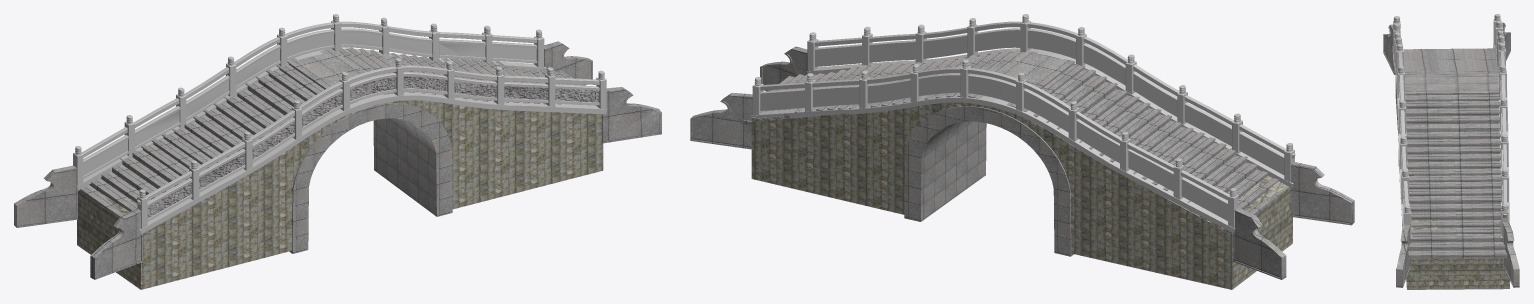
File: Bridge-1.obj
3 views of the same model, side by side, from view 1: azimuth 30°, elevation 25°; view 2: azimuth 150°, elevation 25°; view 3: azimuth 270°, elevation 25° (orthographic). The views are drawn at different scales.
Parts seen in each view (by area): view 1: Obj3d66_688138_241_499_网格.636, Obj3d66_688138_239_270_网格.634, Obj3d66_688138_240_858_网格.635, Obj3d66_688138_238_77_网格.633, Obj3d66_688138_242_375_网格.637, Obj3d66_688138_220_511_网格.615, Obj3d66_688138_230_505_网格.625, Obj3d66_688138_224_128_网格.619, Obj3d66_688138_234_986_网格.629, Obj3d66_688138_221_254_网格.616, Obj3d66_688138_219_605_网格.614, Obj3d66_688138_237_465_网格.632 (+13 smaller); view 2: Obj3d66_688138_241_499_网格.636, Obj3d66_688138_220_511_网格.615, Obj3d66_688138_239_270_网格.634, Obj3d66_688138_238_77_网格.633, Obj3d66_688138_230_505_网格.625, Obj3d66_688138_242_375_网格.637, Obj3d66_688138_240_858_网格.635; view 3: Obj3d66_688138_239_270_网格.634, Obj3d66_688138_241_499_网格.636, Obj3d66_688138_240_858_网格.635, Obj3d66_688138_242_375_网格.637, Obj3d66_688138_230_505_网格.625, Obj3d66_688138_220_511_网格.615.
Part boxes in pixels (x1,y1,x2,y2): Obj3d66_688138_241_499_网格.636: (77,100,603,289); Obj3d66_688138_239_270_网格.634: (78,47,595,217); Obj3d66_688138_240_858_网格.635: (137,58,607,234); Obj3d66_688138_238_77_网格.633: (289,103,452,253); Obj3d66_688138_242_375_网格.637: (14,41,661,279); Obj3d66_688138_220_511_网格.615: (83,28,599,221); Obj3d66_688138_230_505_网格.625: (73,14,546,190); Obj3d66_688138_224_128_网格.619: (287,33,333,57); Obj3d66_688138_234_986_网格.629: (350,77,395,100); Obj3d66_688138_221_254_网格.616: (439,43,485,57); Obj3d66_688138_219_605_网格.614: (492,46,536,60); Obj3d66_688138_237_465_网格.632: (199,153,244,189); Obj3d66_688138_241_499_网格.636: (751,75,1292,289); Obj3d66_688138_220_511_网格.615: (760,28,1284,220); Obj3d66_688138_239_270_网格.634: (741,50,1289,234); Obj3d66_688138_238_77_网格.633: (904,106,1073,256); Obj3d66_688138_230_505_网格.625: (750,59,1238,232); Obj3d66_688138_242_375_网格.637: (690,46,1354,279); Obj3d66_688138_240_858_网格.635: (806,14,1295,188); Obj3d66_688138_239_270_网格.634: (1403,48,1508,259); Obj3d66_688138_241_499_网格.636: (1395,77,1509,289); Obj3d66_688138_240_858_网格.635: (1392,16,1411,241); Obj3d66_688138_242_375_网格.637: (1383,22,1519,287); Obj3d66_688138_230_505_网格.625: (1493,14,1509,241); Obj3d66_688138_220_511_网格.615: (1398,29,1503,210).
Bounding box in the file's own units: 8.59 × 2.36 × 2.09.
14 materials, 13 textured.
